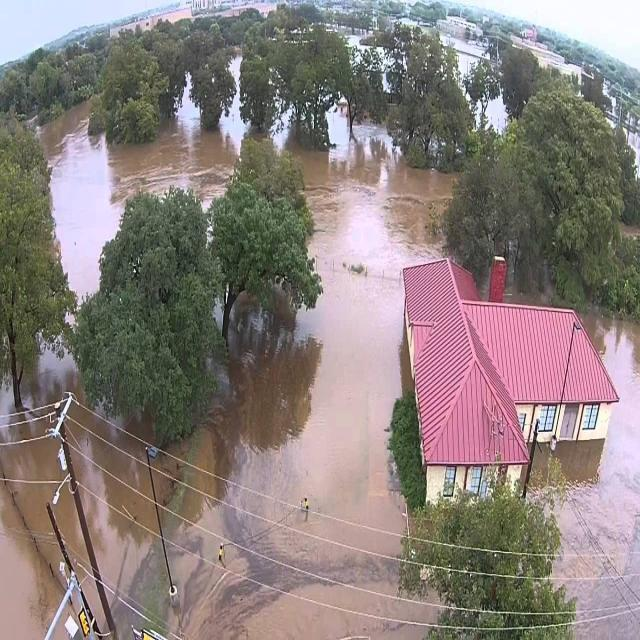flooded_areas: (45, 72, 640, 639)
